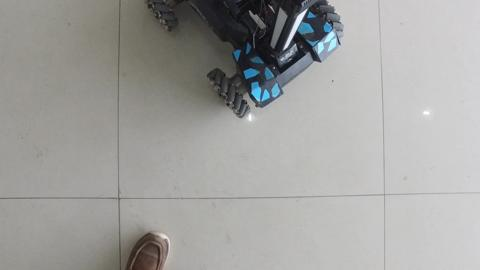chariot: (144, 1, 353, 119)
